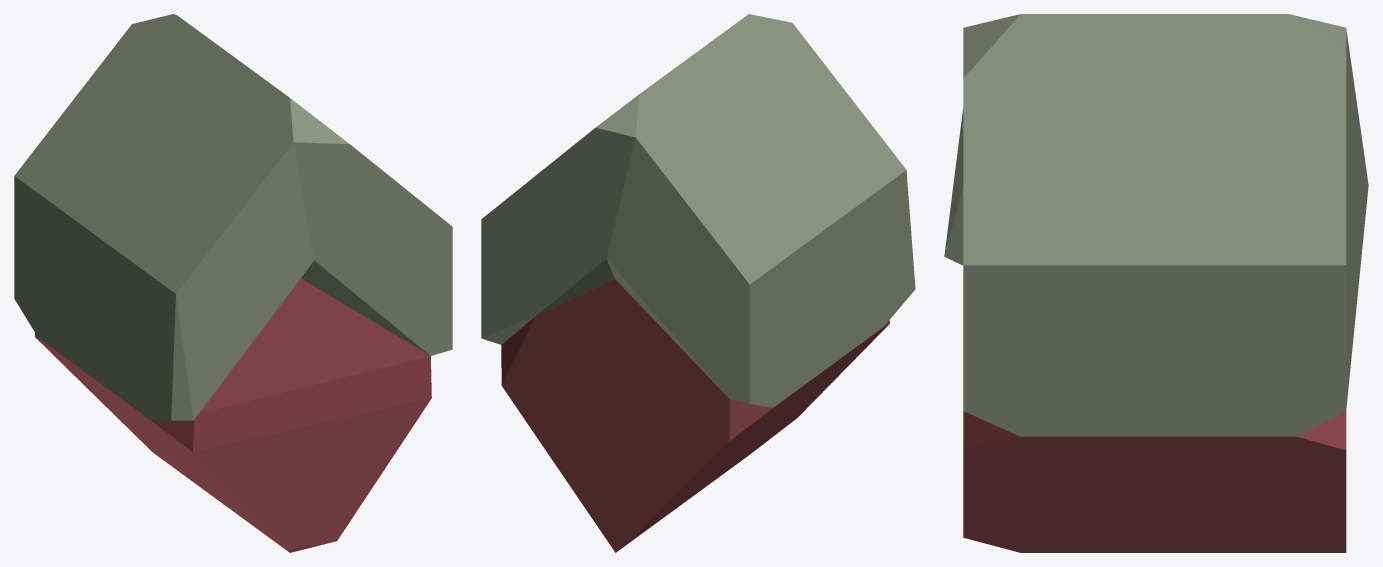
Rendered from pillar_corner_element_ornamental.fbx.
3 views of the same model, side by side, from view 1: azimuth 30°, elevation 25°; view 2: azimuth 150°, elevation 25°; view 3: azimuth 270°, elevation 25° (orthographic). The views are drawn at different scales.
Parts seen in each view (by area): view 1: pillar_corner_element_ornamental; view 2: pillar_corner_element_ornamental; view 3: pillar_corner_element_ornamental.
Boxes of the visible parts, box(x1,y1,x2,y2) form: pillar_corner_element_ornamental: box(14, 14, 452, 552); pillar_corner_element_ornamental: box(481, 14, 915, 552); pillar_corner_element_ornamental: box(944, 14, 1368, 552).
Size of the model in its own units: 51.27 by 78.6 by 56.08.
